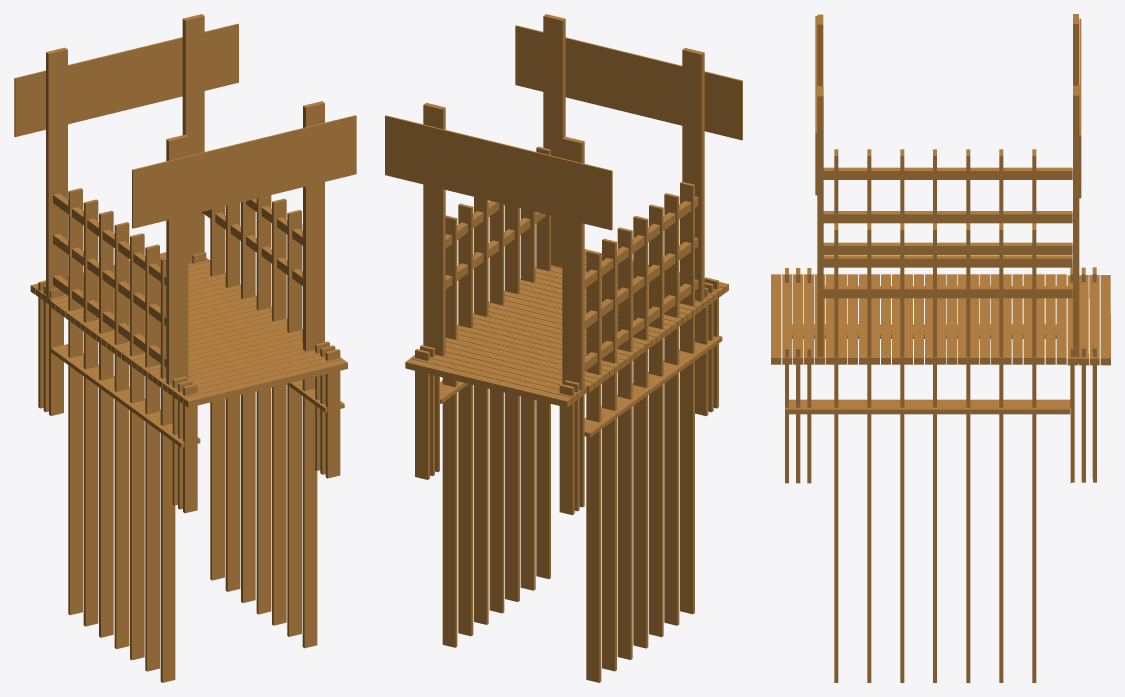
The model's file is Bridge.fbx.
The picture shows the model from 3 angles, left to right: view 1: azimuth 30°, elevation 25°; view 2: azimuth 150°, elevation 25°; view 3: azimuth 270°, elevation 25°; orthographic projection. The views are drawn at different scales.
Parts seen in each view (by area): view 1: Bridge; view 2: Bridge; view 3: Bridge.
Part boxes in pixels (x1=…): Bridge: x1=14, y1=14, x2=356, y2=682; Bridge: x1=385, y1=14, x2=742, y2=682; Bridge: x1=771, y1=14, x2=1110, y2=682.
Bounding box in the file's own units: 350 × 800 × 420.
